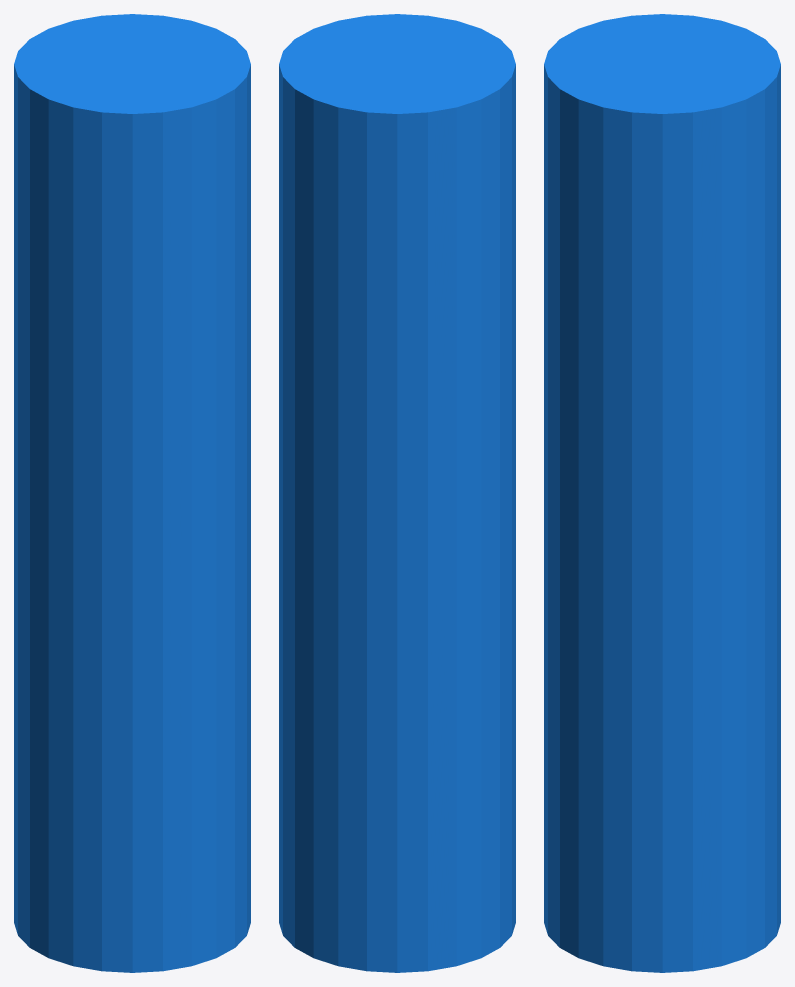
Rendered from Proto_Block_Column_Round_01.fbx.
3 views of the same model, side by side, from view 1: azimuth 30°, elevation 25°; view 2: azimuth 150°, elevation 25°; view 3: azimuth 270°, elevation 25° (orthographic).
Parts seen in each view (by area): view 1: Proto_Block_Column_Round_01; view 2: Proto_Block_Column_Round_01; view 3: Proto_Block_Column_Round_01.
Part boxes in pixels (box(x1,y1,x2,y2)): Proto_Block_Column_Round_01: box(14, 14, 250, 972); Proto_Block_Column_Round_01: box(279, 14, 515, 972); Proto_Block_Column_Round_01: box(544, 14, 780, 972).
Size of the model in its own units: 0.5 by 2 by 0.5.
